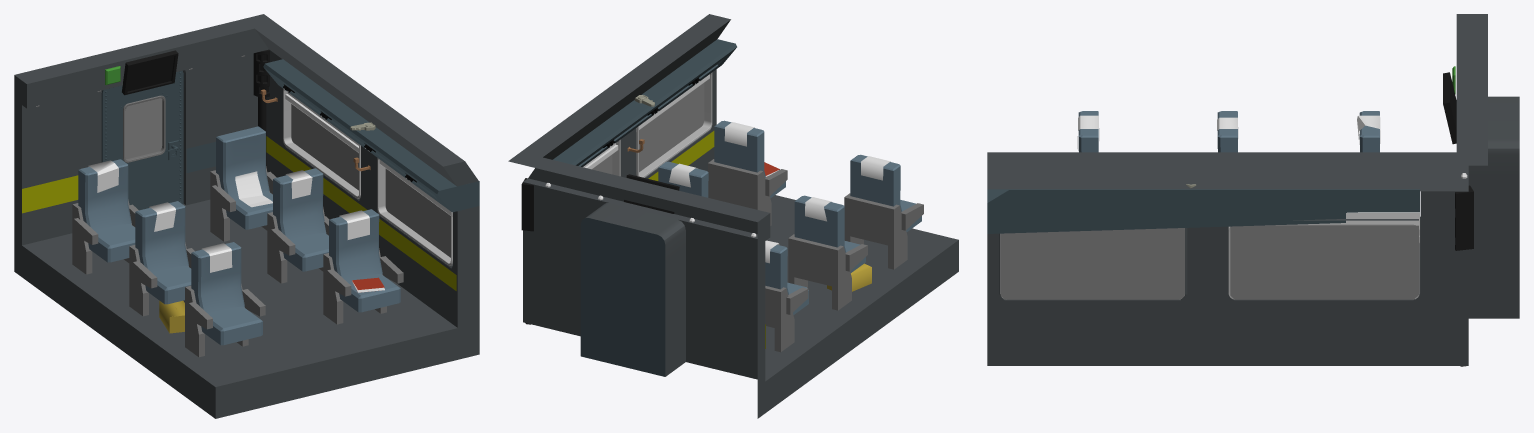
File: train.fbx
3 renders of one model, left to right at view 1: azimuth 30°, elevation 25°; view 2: azimuth 150°, elevation 25°; view 3: azimuth 270°, elevation 25°, orthographic. The views are drawn at different scales.
Visible parts, largest first — view 1: polySurface26, polySurface21, pCube2 (×6), pCube3 (×6), polySurface6, pCube49, pPlane3 (×6), polySurface11, pPlane6, polySurface9, polySurface16, TV (+18 smaller); view 2: polySurface26, polySurface21, polySurface13, pCube2 (×5), pCube4 (×2), pCube49, polySurface11, pCube84, pPlane3 (×4), pCube76, polySurface15, pPlane6 (+2 smaller); view 3: polySurface26, pCube49, polySurface9, polySurface11, pCube2 (×3), PIPE, pCube18, TV, polySurface14.
Boxes of the visible parts, bbox=[...] form: polySurface26: bbox=[14, 14, 479, 327]; polySurface21: bbox=[14, 193, 479, 418]; pCube2 (×6): bbox=[78, 126, 382, 314]; pCube3 (×6): bbox=[88, 191, 400, 345]; polySurface6: bbox=[101, 70, 183, 210]; pCube49: bbox=[263, 59, 479, 212]; pPlane3 (×6): bbox=[88, 160, 369, 272]; polySurface11: bbox=[385, 168, 450, 257]; pPlane6: bbox=[266, 136, 456, 290]; polySurface9: bbox=[291, 104, 358, 190]; polySurface16: bbox=[125, 98, 162, 158]; TV: bbox=[122, 50, 178, 95]; polySurface26: bbox=[508, 14, 770, 386]; polySurface21: bbox=[757, 195, 958, 418]; polySurface13: bbox=[580, 218, 665, 376]; pCube2 (×5): bbox=[658, 120, 901, 294]; pCube4 (×2): bbox=[788, 193, 907, 310]; pCube49: bbox=[553, 39, 736, 166]; polySurface11: bbox=[639, 83, 704, 172]; pCube84: bbox=[708, 159, 771, 225]; pPlane3 (×4): bbox=[669, 122, 890, 221]; pCube76: bbox=[765, 286, 794, 352]; polySurface15: bbox=[636, 72, 712, 177]; pPlane6: bbox=[648, 131, 714, 180]; polySurface26: bbox=[987, 14, 1519, 365]; pCube49: bbox=[987, 189, 1419, 233]; polySurface9: bbox=[1230, 225, 1418, 299]; polySurface11: bbox=[1001, 228, 1184, 299]; pCube2 (×3): bbox=[1078, 111, 1379, 152]; PIPE: bbox=[1455, 185, 1473, 366]; pCube18: bbox=[1228, 212, 1419, 242]; TV: bbox=[1443, 72, 1456, 144]; polySurface14: bbox=[1228, 224, 1419, 299].
Bounding box in the file's own units: 48.01 × 34.12 × 67.26.
